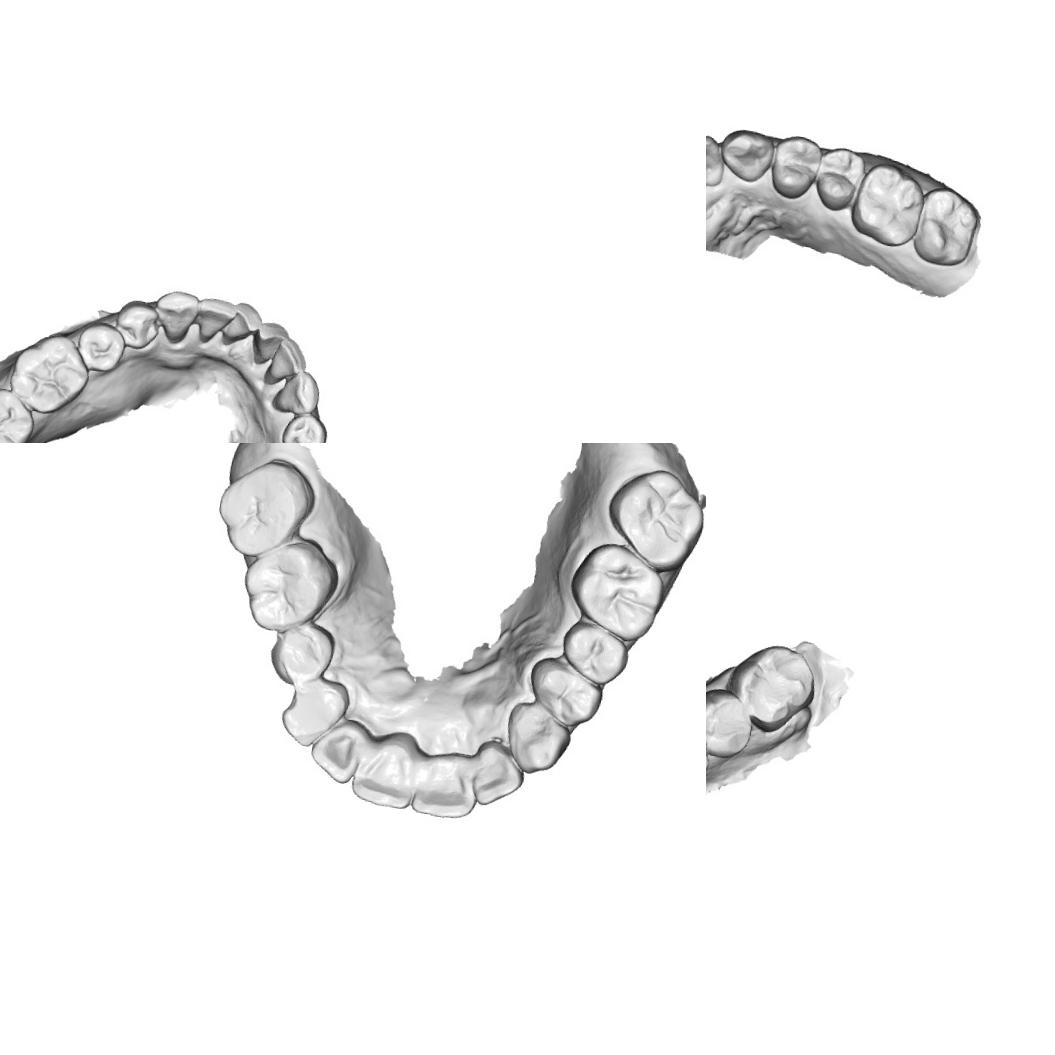canine: (498, 697, 576, 782), (274, 670, 352, 754), (714, 123, 778, 188), (150, 284, 201, 346), (269, 364, 324, 419)
incisor: (346, 737, 421, 813), (303, 714, 374, 790), (408, 754, 484, 822), (469, 749, 527, 816), (190, 290, 240, 350), (263, 332, 314, 388), (248, 318, 294, 368), (220, 298, 266, 346), (706, 128, 731, 191)
molar: (209, 450, 320, 568), (234, 527, 346, 642), (598, 461, 706, 579), (563, 537, 668, 646), (720, 636, 822, 738), (3, 324, 96, 421), (844, 156, 930, 252), (909, 181, 986, 272), (0, 381, 41, 443)
premolar: (522, 652, 608, 730), (258, 608, 337, 690), (552, 616, 633, 691), (766, 130, 826, 206), (810, 142, 870, 216), (706, 685, 757, 762), (71, 318, 130, 378), (110, 296, 166, 355), (277, 408, 331, 443)
